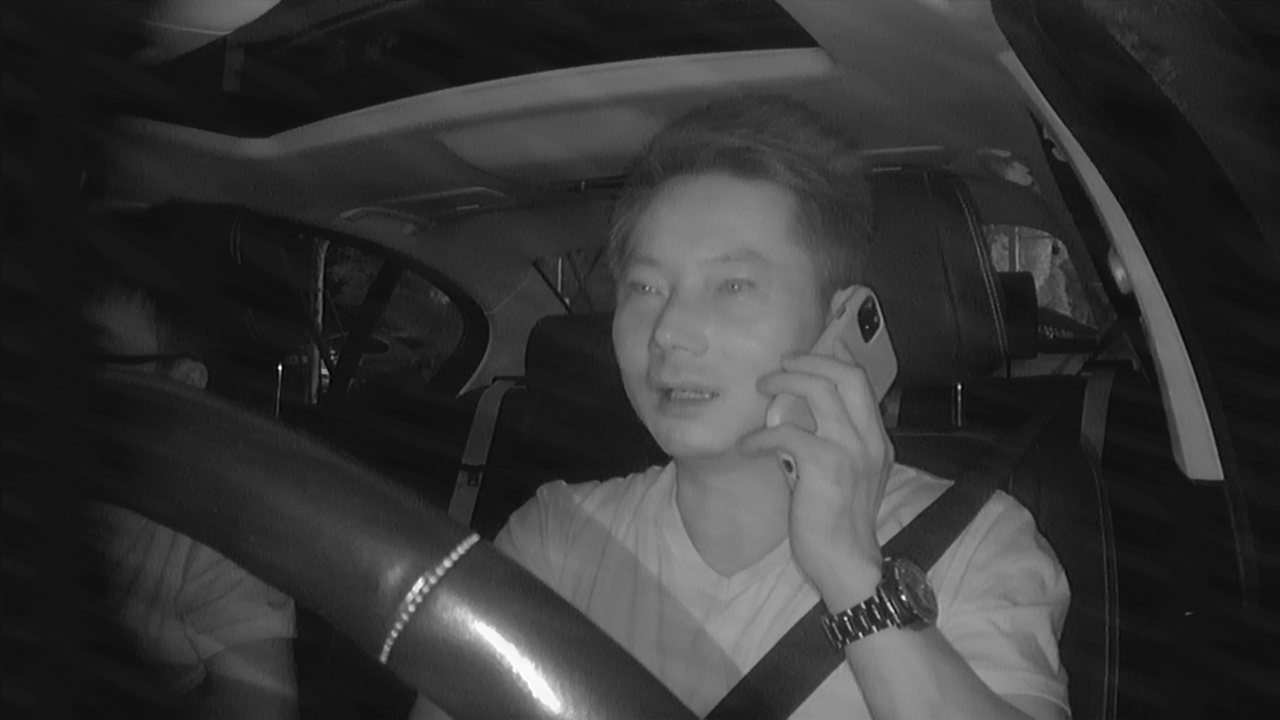hand: (738, 342, 898, 569)
